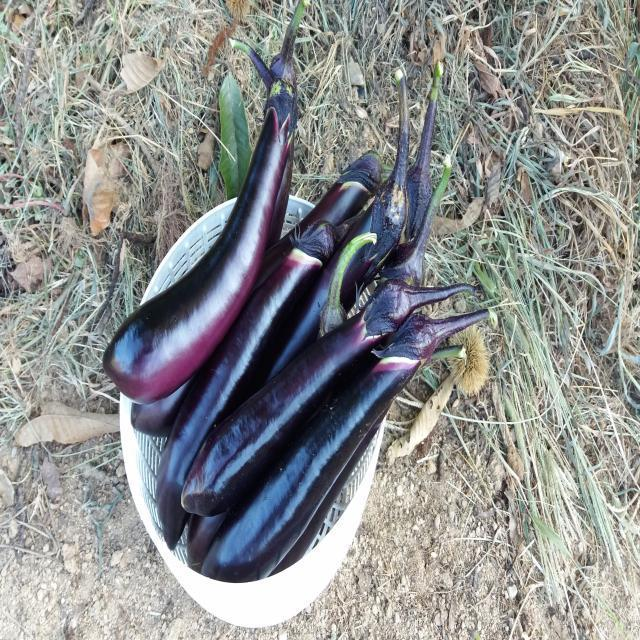eggplant: (111, 103, 424, 576), (101, 73, 288, 398)
